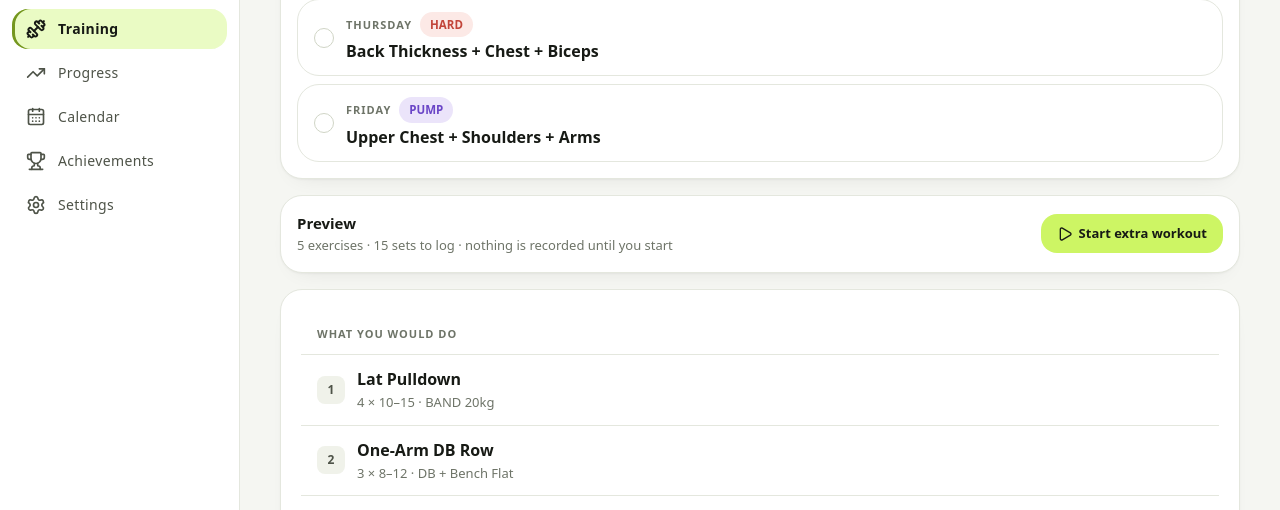
it: 16. the Extra flow exposes no progression or calibration › never requests progression, before or after Start
(page scrolled)
Click the button "Start extra workout".
click(1132, 234)  # box [1041,214,1223,254]
(page scrolled)
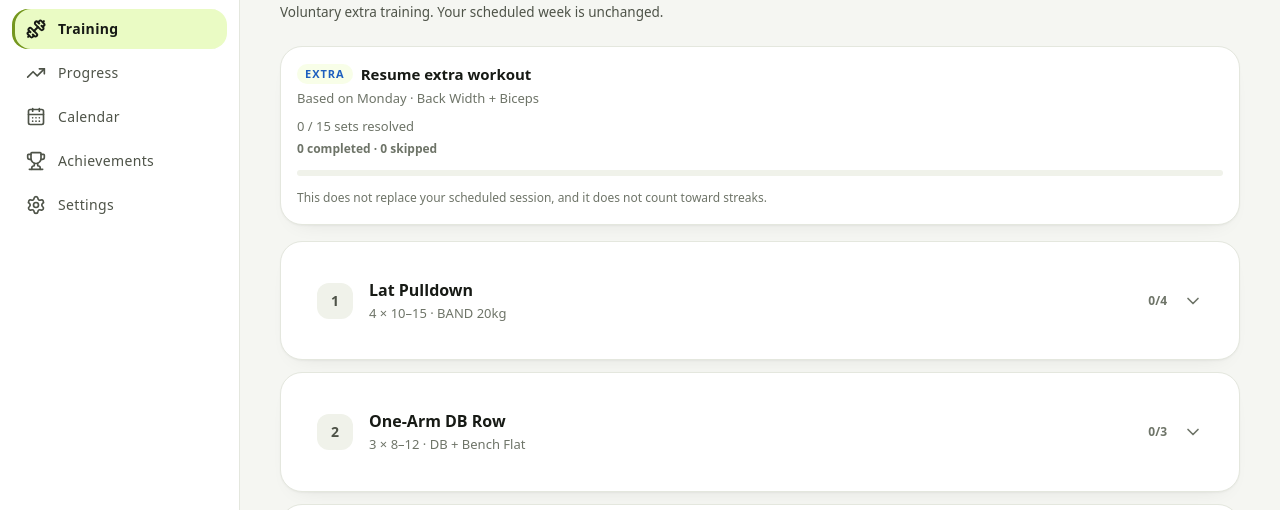
Expected: the text "Resume extra workout" is shown, [361,63,531,86]
